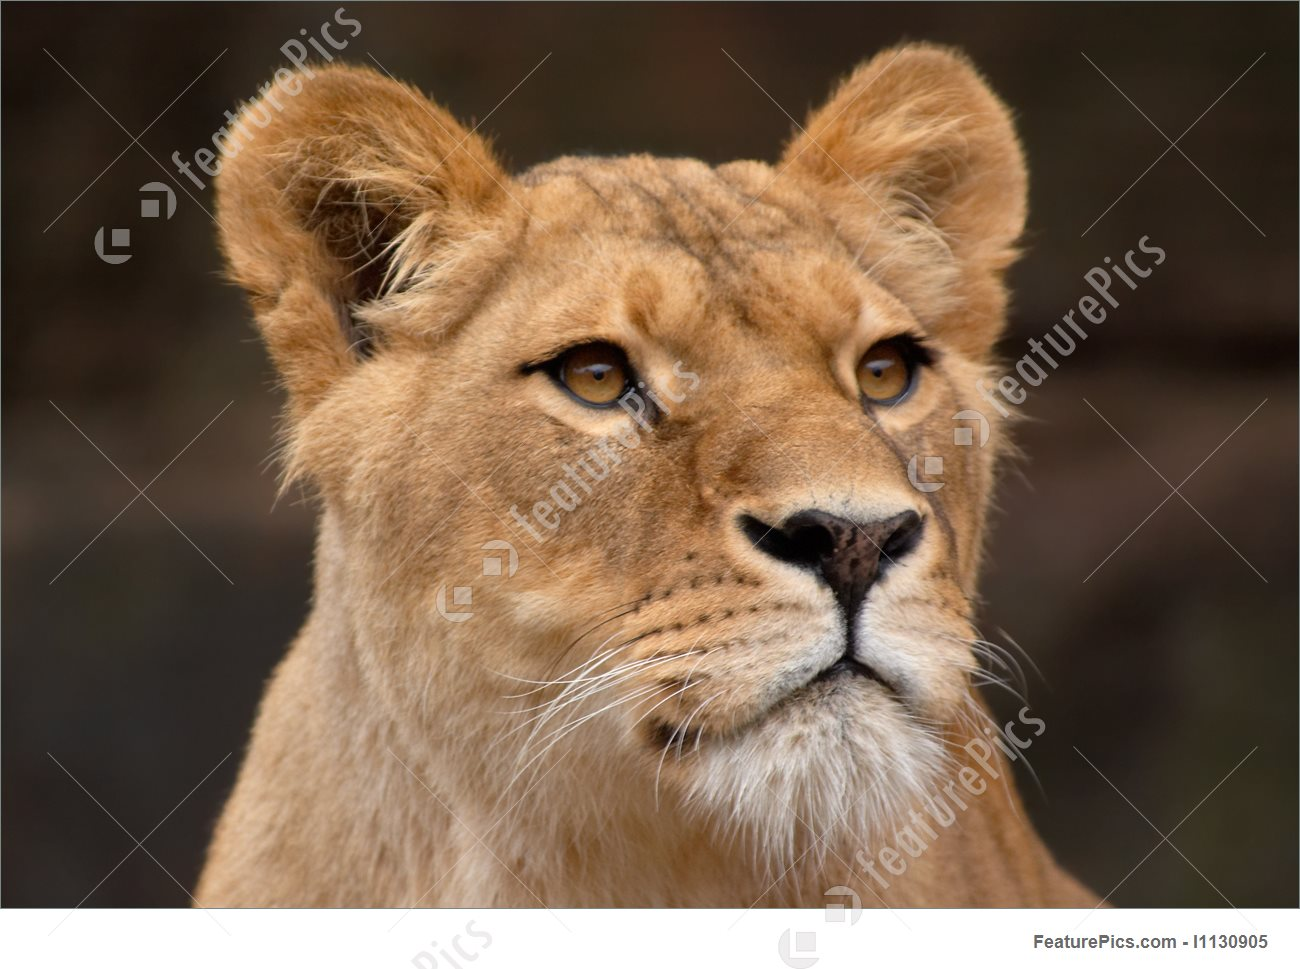lion: (186, 48, 1216, 908)
